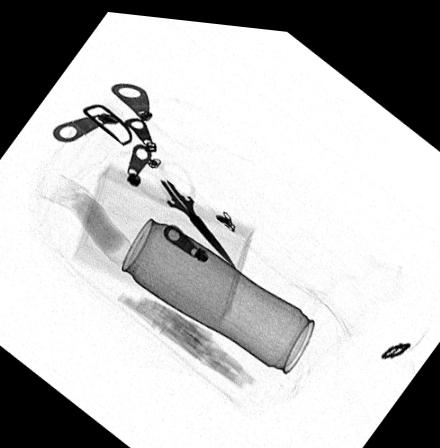Scissors: (128, 153, 237, 262)
